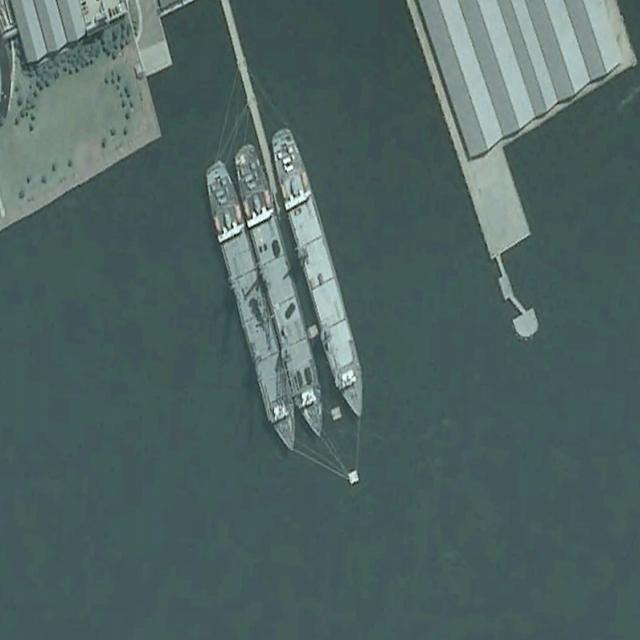Cargo: (264, 120, 375, 426), (228, 136, 334, 447), (199, 154, 306, 461)
